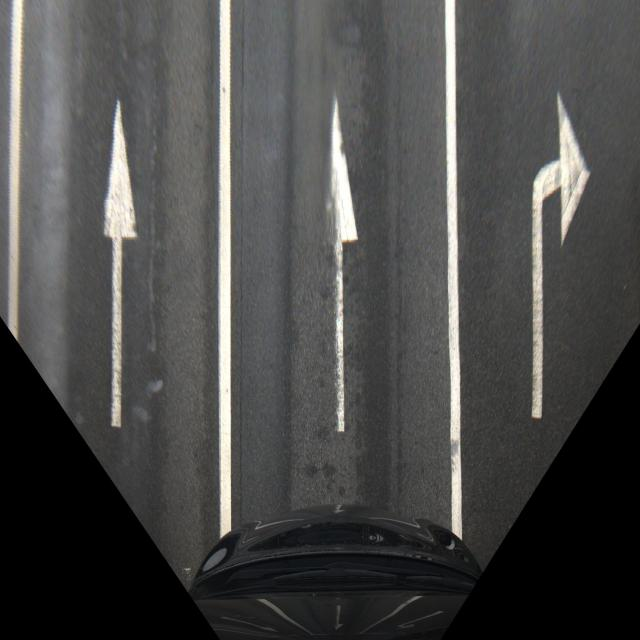forward: (218, 72, 457, 429), (12, 71, 234, 431)
right: (447, 73, 640, 423)
